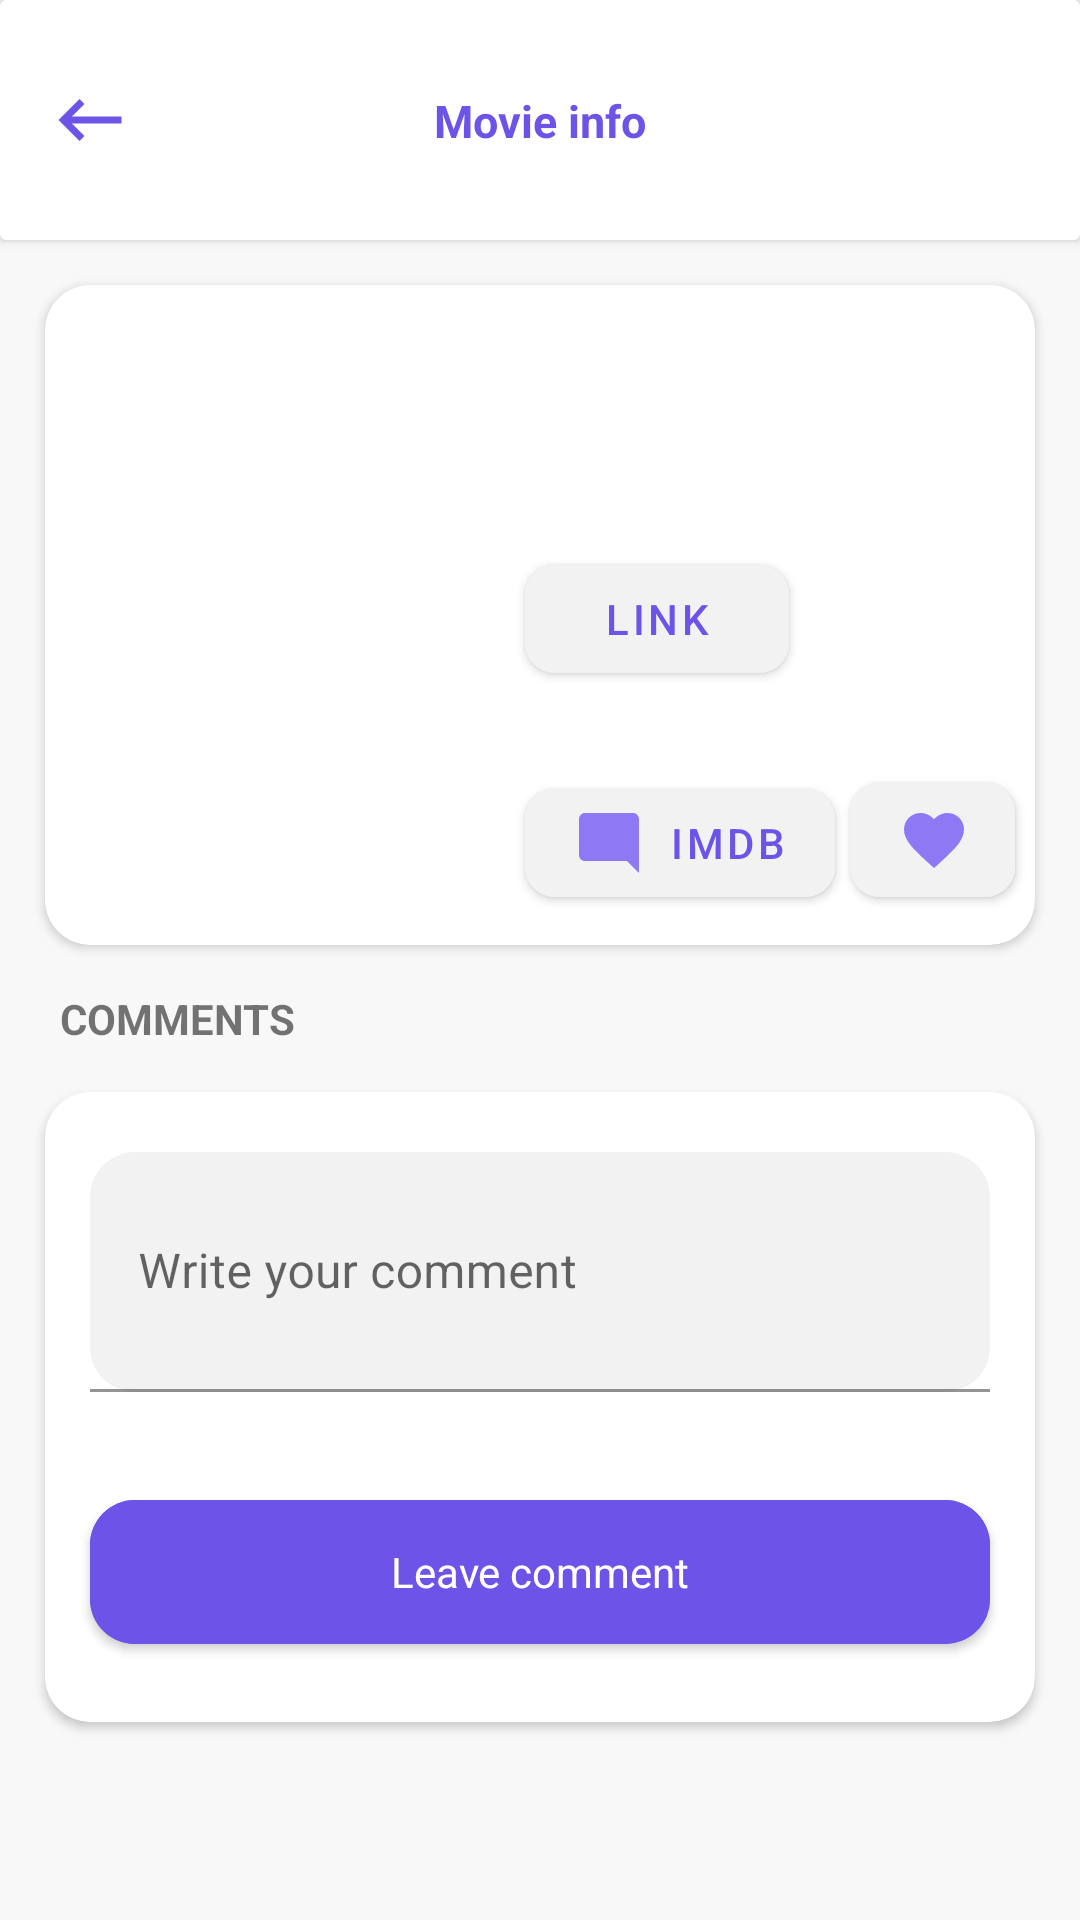

Named icons in this screenshot (1080×1920) and their bounding boxes, (x1, y1, x2, y2):
favorite: (850, 782, 1015, 904)
keyboard backspace: (59, 99, 122, 141)
